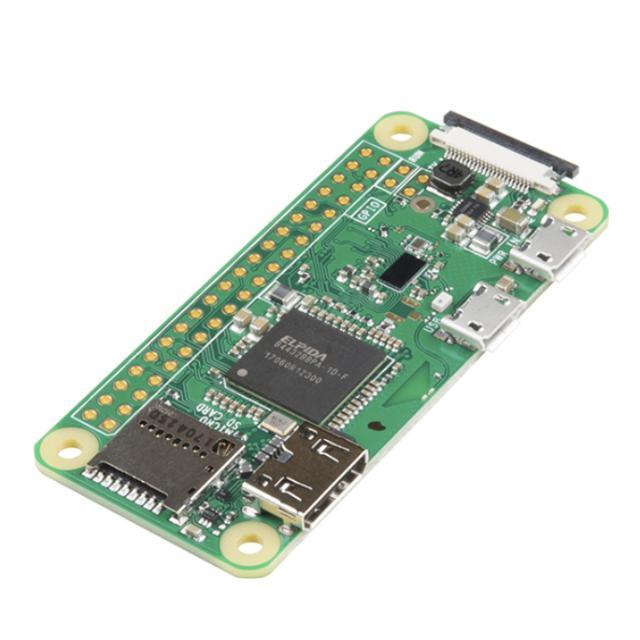Raspberry-Pi-Zero-W: (35, 112, 609, 578)
